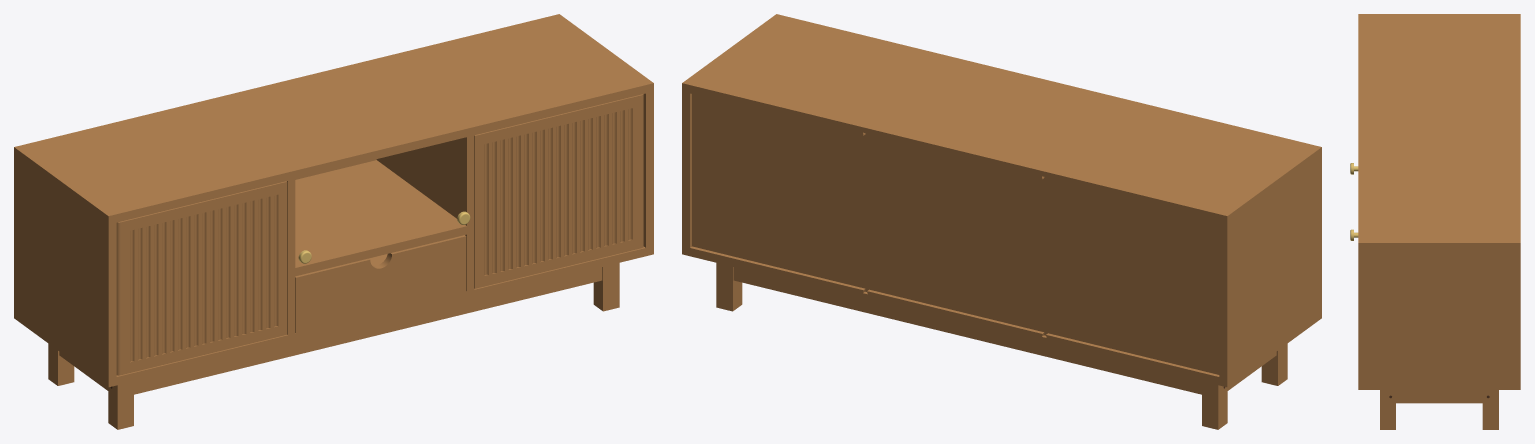
The model's file is meuble-tv-kumiki.glb.
3 renders of one model, left to right at view 1: azimuth 30°, elevation 25°; view 2: azimuth 150°, elevation 25°; view 3: azimuth 270°, elevation 25°, orthographic. The views are drawn at different scales.
Parts seen in each view (by area): view 1: meuble_tv_kumiki; view 2: meuble_tv_kumiki; view 3: meuble_tv_kumiki.
Part boxes in pixels (<box>): meuble_tv_kumiki: <box>14,14,653,429</box>; meuble_tv_kumiki: <box>682,14,1321,429</box>; meuble_tv_kumiki: <box>1358,14,1520,429</box>.
Size of the model in its own units: 1.5 by 0.6 by 0.472.
